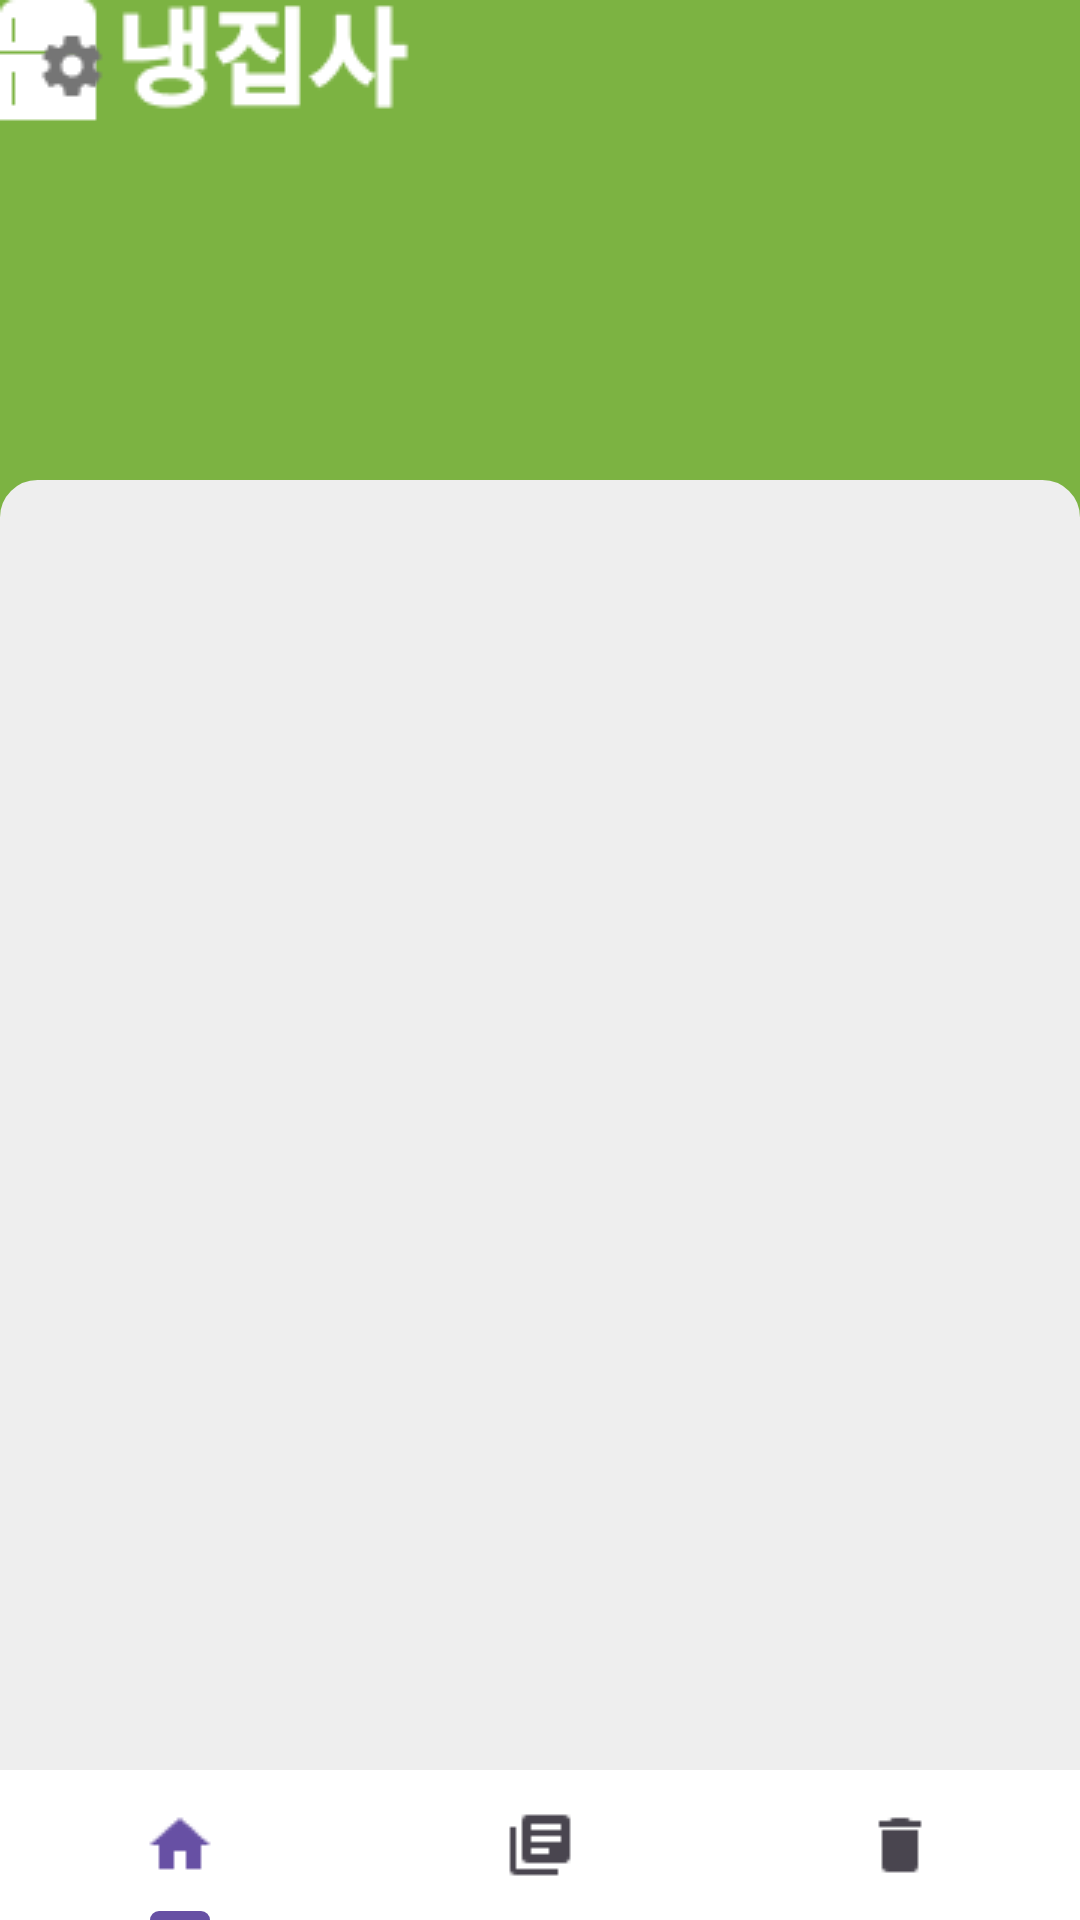

Screen size 1080w x 1920h. Icon name, then its center in pixels as point (x, y):
setting: point (50, 60)
